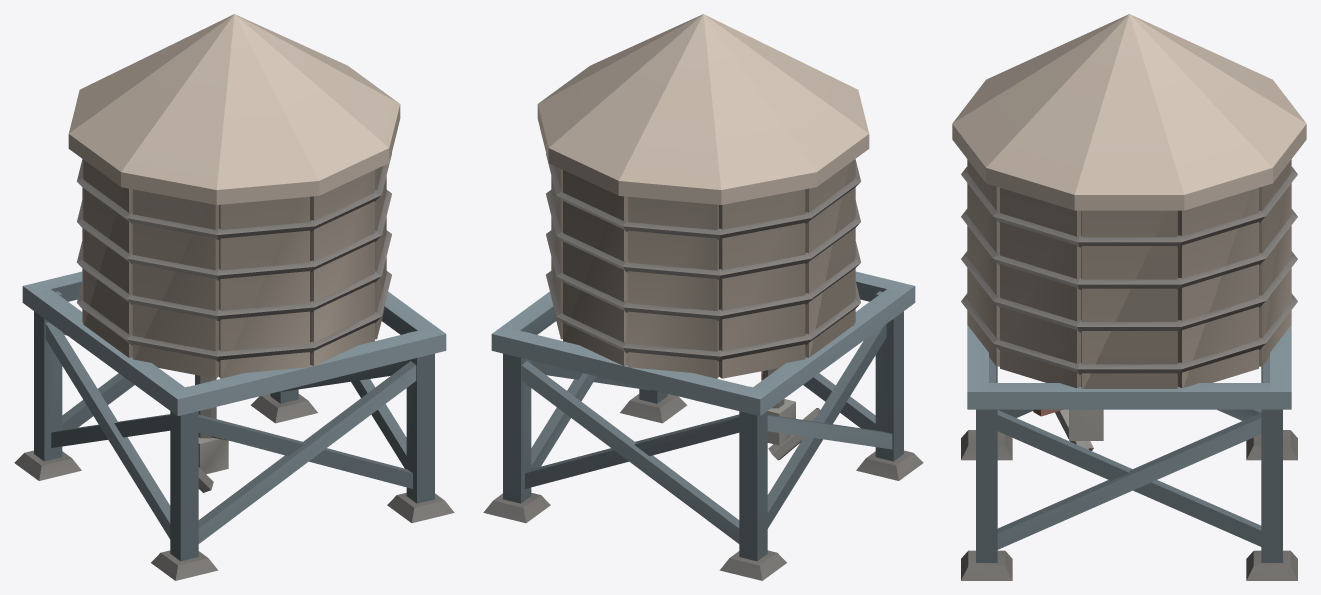
The model's file is watertower.glb.
The picture shows the model from 3 angles, left to right: view 1: azimuth 30°, elevation 25°; view 2: azimuth 150°, elevation 25°; view 3: azimuth 270°, elevation 25°; orthographic projection. The views are drawn at different scales.
Parts seen in each view (by area): view 1: watertower; view 2: watertower; view 3: watertower.
Boxes of the visible parts, <box> form: watertower: <box>14,14,454,580</box>; watertower: <box>483,14,923,580</box>; watertower: <box>952,14,1306,580</box>.
Bounding box in the file's own units: 3.12 × 5.06 × 3.28.
